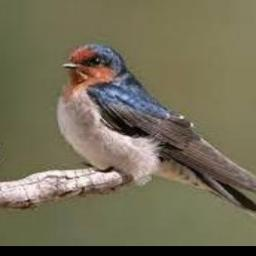Swallow: (55, 44, 256, 235)
